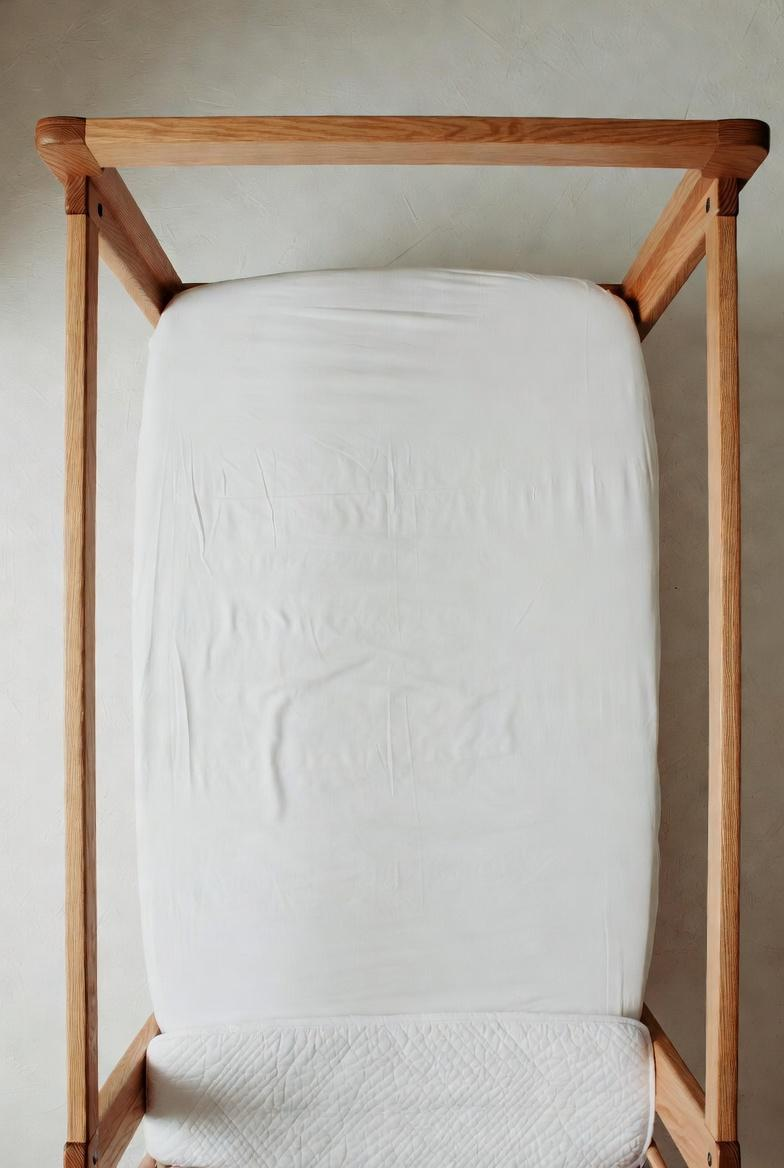crib: (17, 85, 753, 1168)
